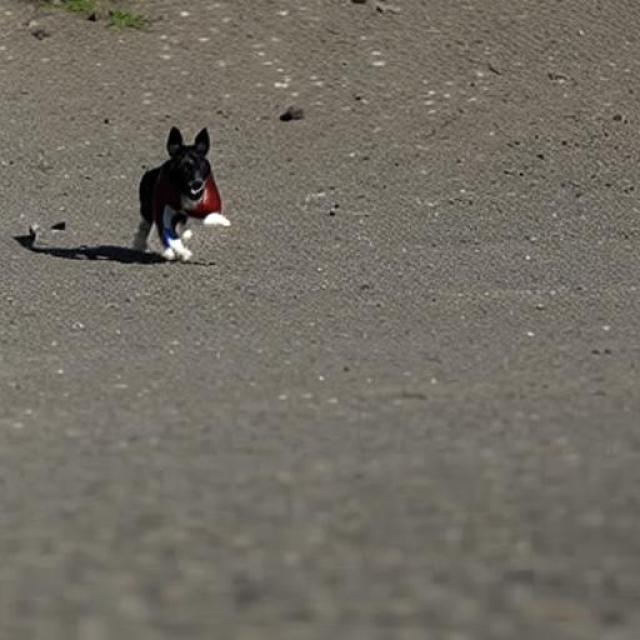Dog: (133, 128, 231, 262)
